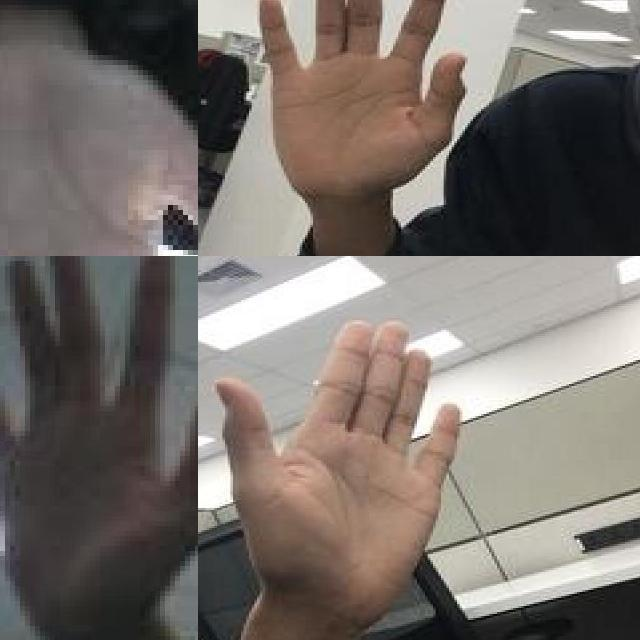no-gloves: (204, 318, 466, 622), (0, 256, 198, 631), (257, 0, 473, 201), (0, 40, 198, 256)
